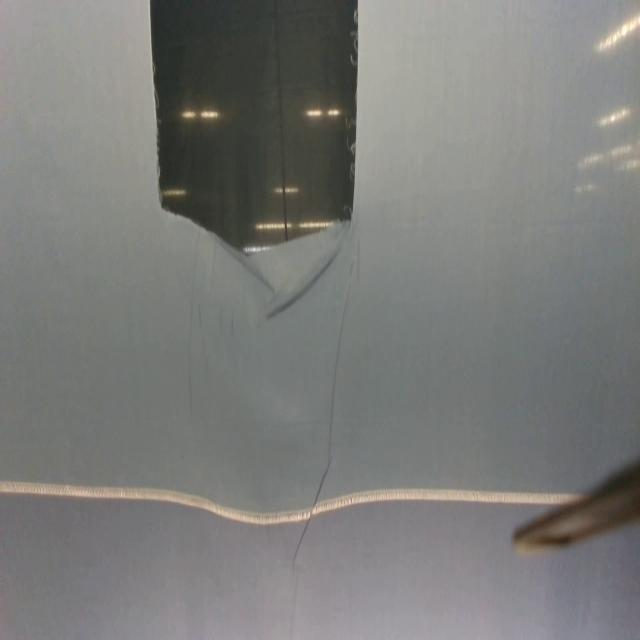crease: (327, 256, 354, 459), (268, 250, 342, 323), (293, 463, 331, 566)
hole: (148, 0, 359, 257)
